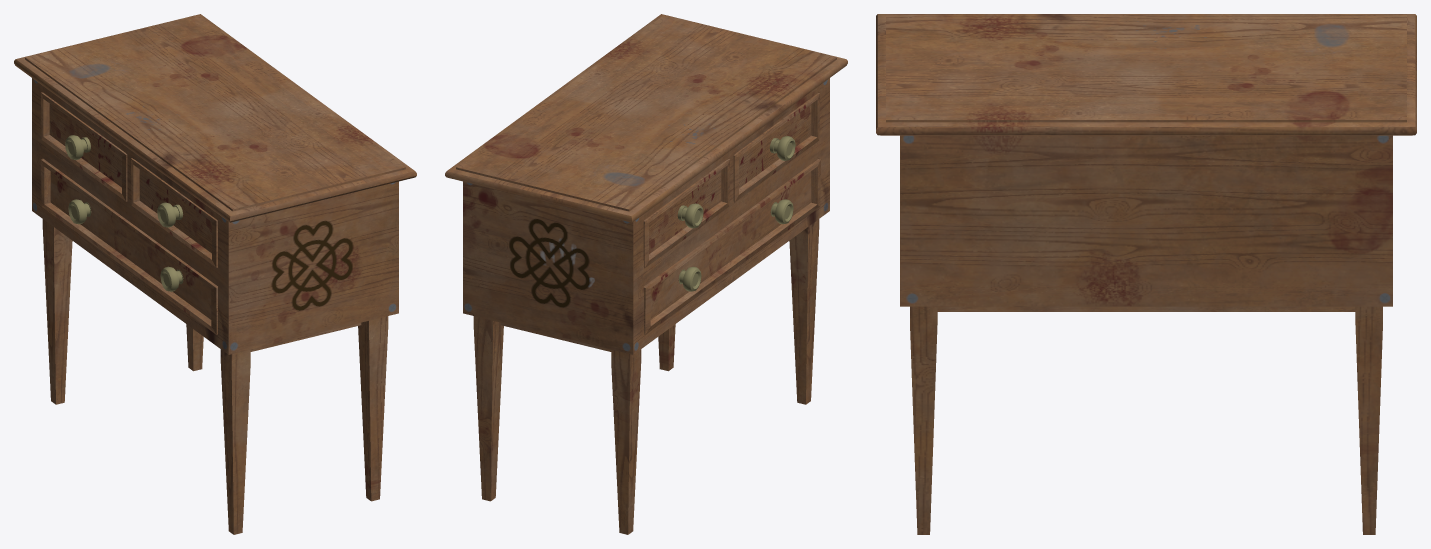
The model's file is armarioComGavetas.fbx.
The picture shows the model from 3 angles, left to right: view 1: azimuth 30°, elevation 25°; view 2: azimuth 150°, elevation 25°; view 3: azimuth 270°, elevation 25°; orthographic projection. The views are drawn at different scales.
Parts seen in each view (by area): view 1: gavetaCorpo, gavetaGrande, GavetaPeqDir, GavetaPeqEsq; view 2: gavetaCorpo, gavetaGrande, GavetaPeqEsq, GavetaPeqDir; view 3: gavetaCorpo.
Boxes of the visible parts, x1,y1,x2,y2 form: gavetaCorpo: (14,14,416,534); gavetaGrande: (41,159,217,334); GavetaPeqDir: (41,92,127,201); GavetaPeqEsq: (131,158,217,267); gavetaCorpo: (445,14,847,534); gavetaGrande: (644,159,820,334); GavetaPeqEsq: (733,93,819,202); GavetaPeqDir: (643,159,729,268); gavetaCorpo: (876,14,1416,534).
Bounding box in the file's own units: 110 × 95.1 × 56.64.
Materials: 3 (3 with a texture image).
